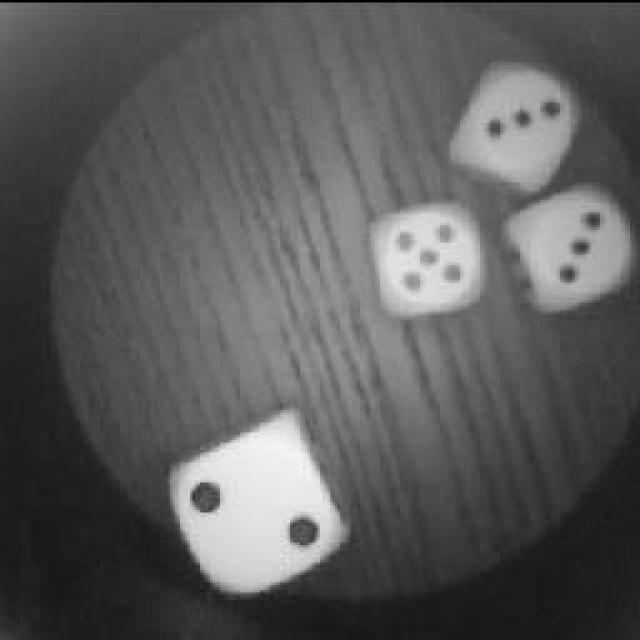dice_2: (165, 413, 350, 595)
dice_3: (500, 178, 638, 322), (452, 60, 582, 188)
dice_5: (362, 195, 488, 317)
